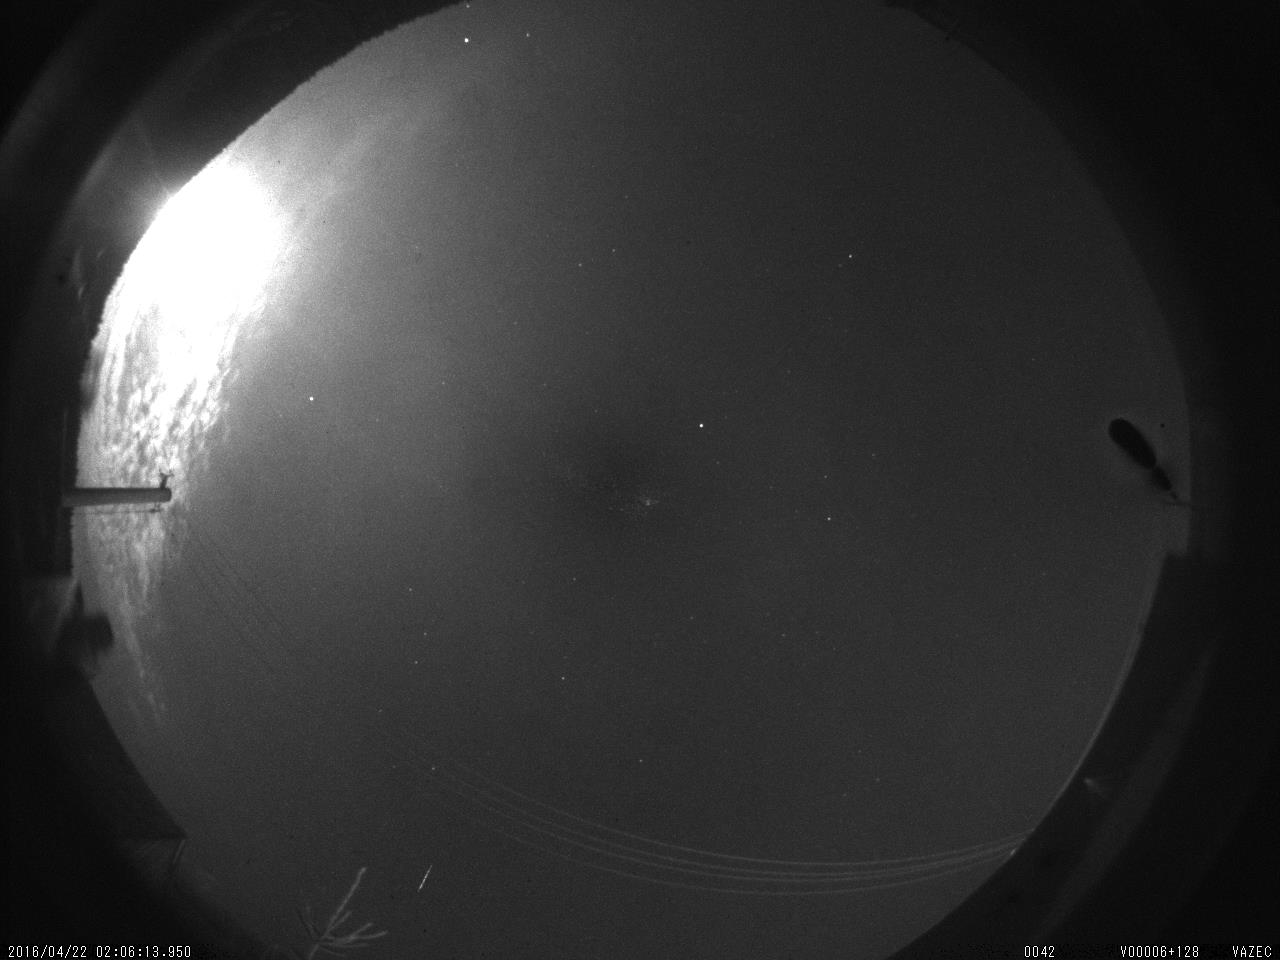meteor: (407, 857, 442, 905)
